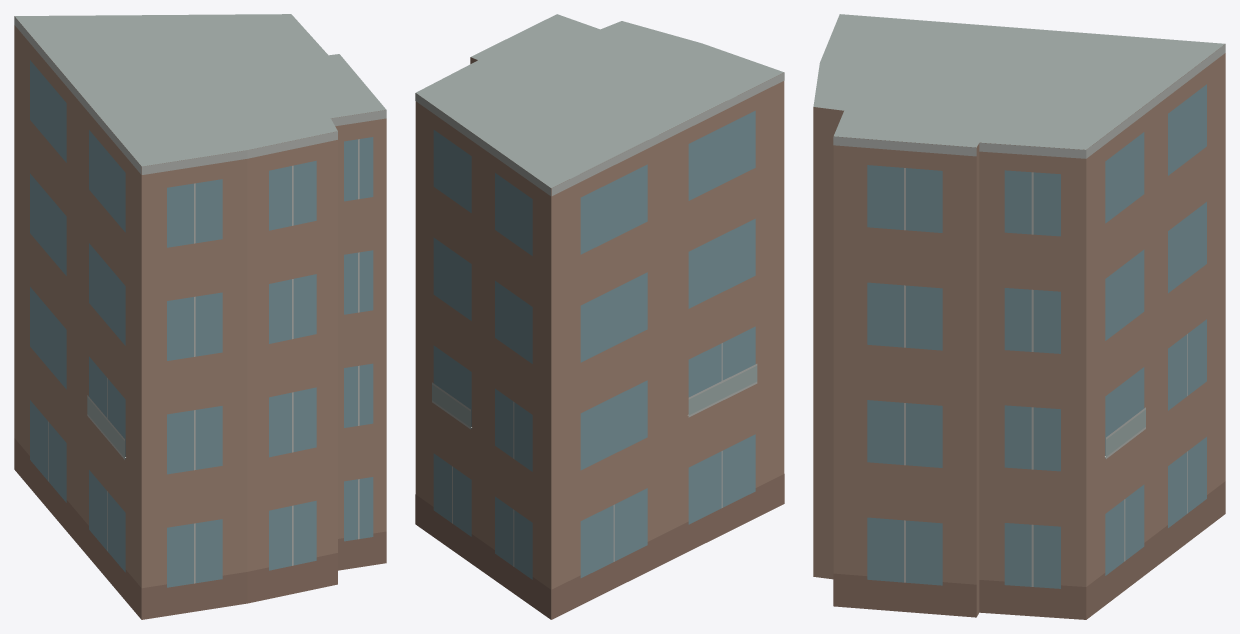
The model's file is survey-upis-32691068.glb.
3 views of the same model, side by side, from view 1: azimuth 30°, elevation 25°; view 2: azimuth 150°, elevation 25°; view 3: azimuth 270°, elevation 25° (orthographic). The views are drawn at different scales.
Parts seen in each view (by area): view 1: survey-upis-32691068.tmp; view 2: survey-upis-32691068.tmp; view 3: survey-upis-32691068.tmp.
Part boxes in pixels (left/top/right/bottom): survey-upis-32691068.tmp: left=14, top=14, right=386, bottom=619; survey-upis-32691068.tmp: left=415, top=14, right=784, bottom=619; survey-upis-32691068.tmp: left=813, top=14, right=1225, bottom=619.
Size of the model in its own units: 7.95 by 12.8 by 10.19.
